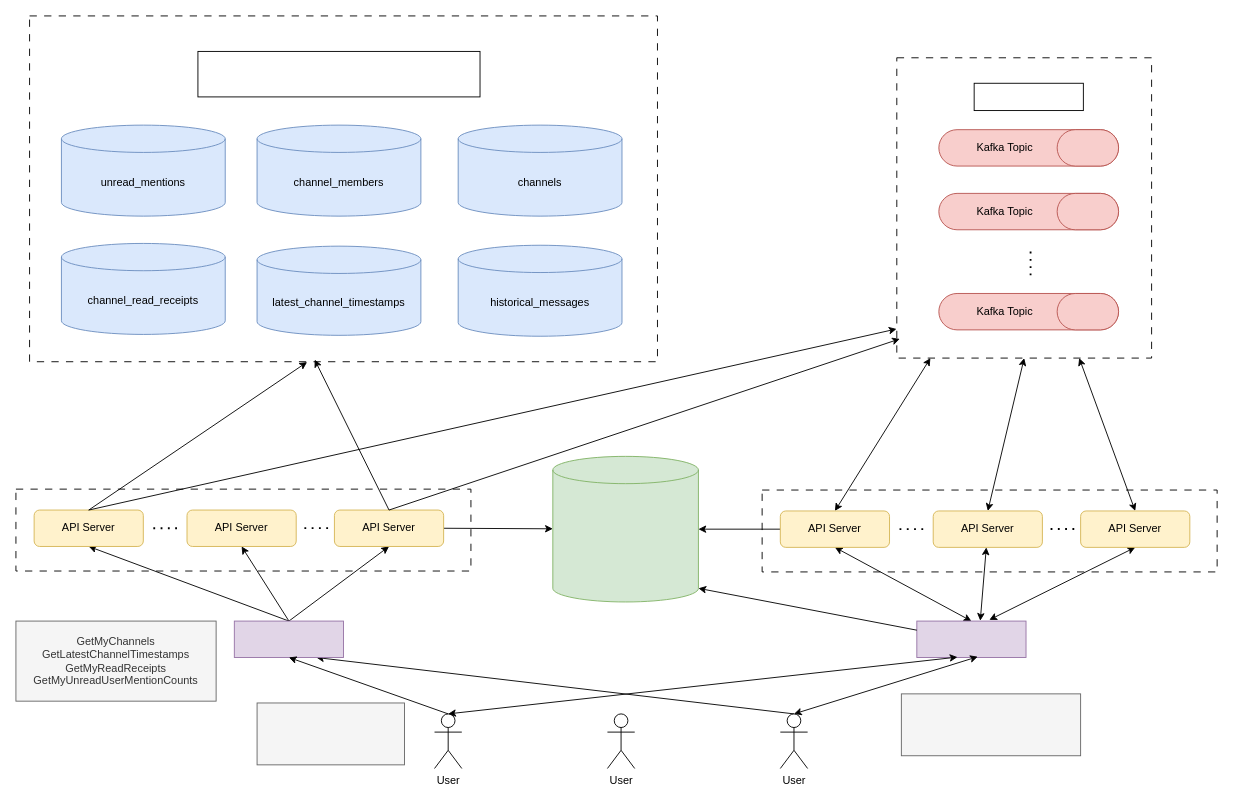
This 1233x804 diagram has some shape labels left out. The shapes that lost their labels are listed below. From the top down, each one's centre as x and y in pixels, then its label:
the point at 338,74: SQL Databases with Smart Sharding
the point at 1028,96: Smart Sharding
the point at 625,528: Key-Value Store (Etcd / Zookeeper) Shard Lookup (Hot-Spot Avoidance)
the point at 288,638: Load Balancer Round Robin
the point at 971,638: Load Balancer Smart Sharding
the point at 330,733: GetMessages SendMessages MarkChannelAsRead
the point at 990,724: WatchNotifications (WebSocket / Long-Lived TCP)
